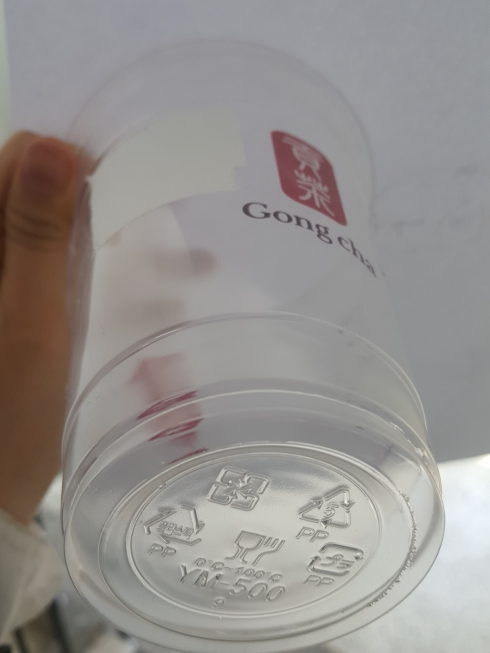recycle: (296, 473, 356, 546)
